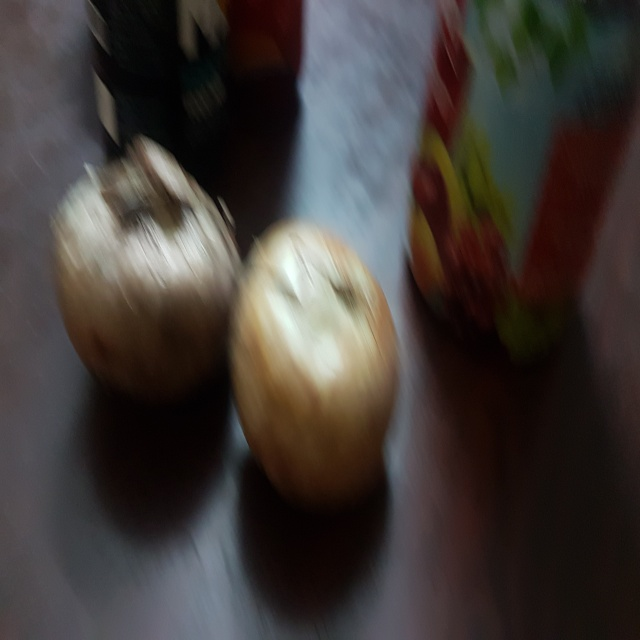onion: (235, 190, 410, 520), (47, 148, 232, 400)
